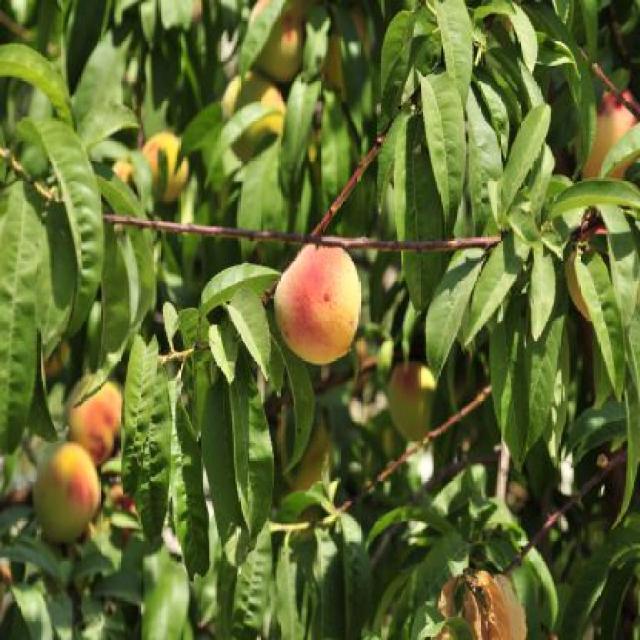Peach: (272, 241, 361, 365), (34, 438, 100, 542), (575, 87, 639, 184), (218, 68, 284, 160), (65, 378, 123, 467), (278, 405, 328, 493), (247, 0, 303, 78), (388, 360, 438, 442), (143, 132, 191, 200), (323, 13, 360, 99), (564, 251, 593, 323), (44, 344, 66, 379), (112, 162, 134, 194)
